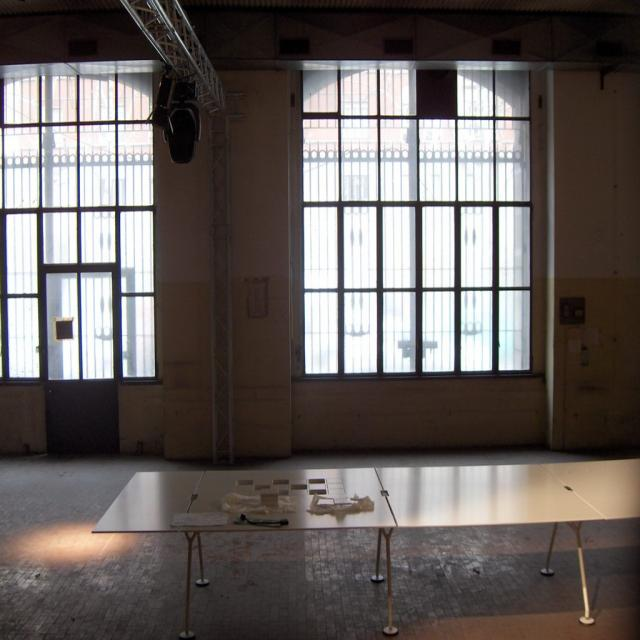desk: (94, 472, 640, 635)
